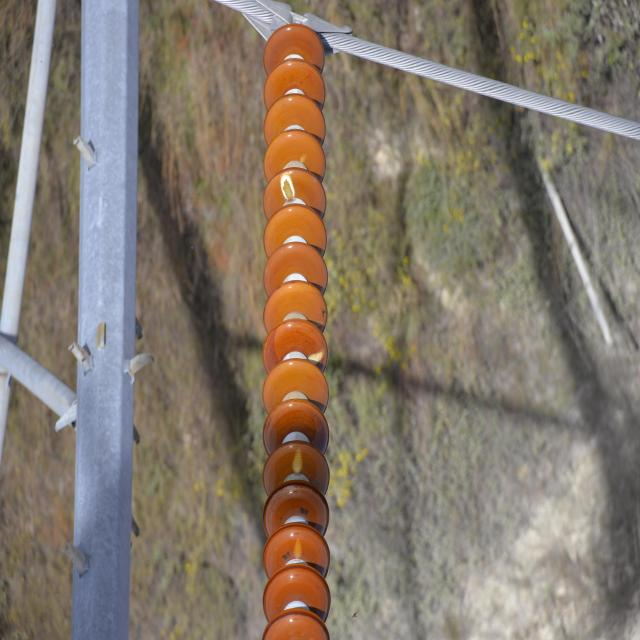insulator: (263, 24, 332, 640)
